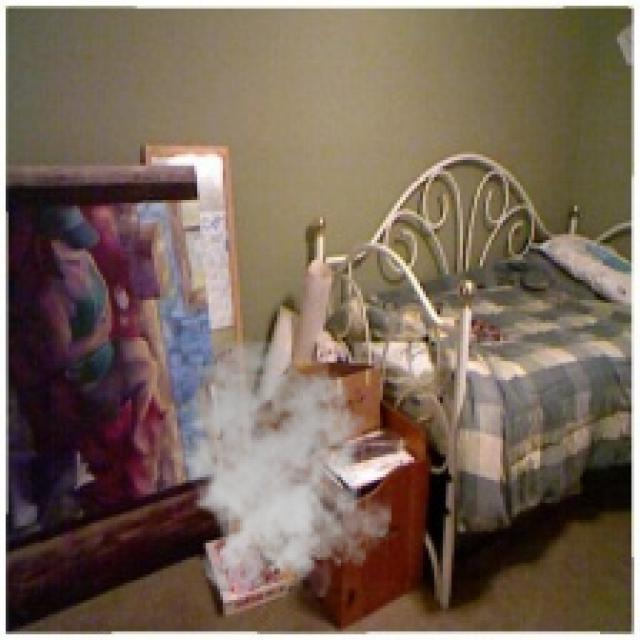smoke: (160, 337, 391, 597)
